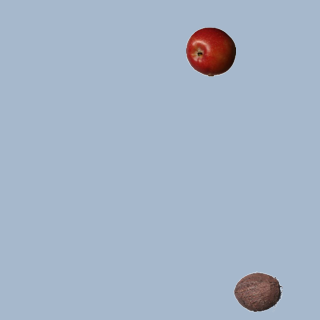Apple Braeburn: (185, 26, 235, 76)
Cocos: (232, 266, 282, 316)
